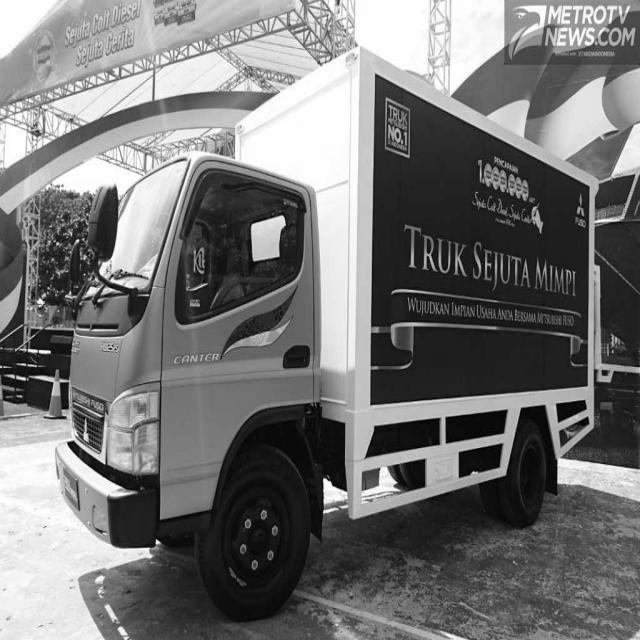truck: (45, 139, 352, 591)
